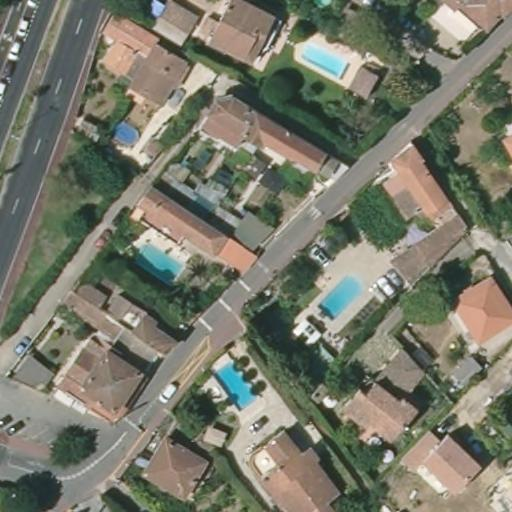pool: (125, 231, 184, 288), (208, 354, 263, 408), (313, 272, 365, 320), (295, 38, 353, 81), (105, 120, 142, 147)
